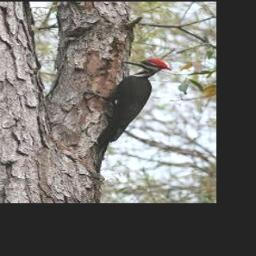Woodpecker: (84, 58, 172, 173)
